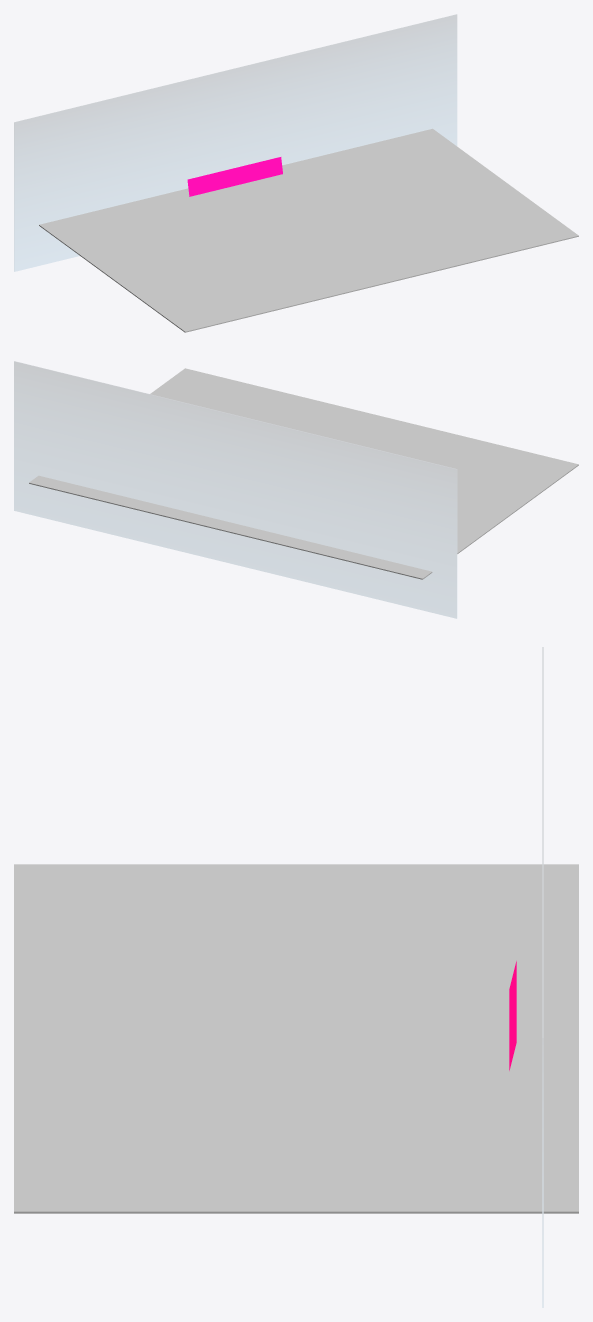
3 views of the same model, one above another, from view 1: azimuth 30°, elevation 25°; view 2: azimuth 150°, elevation 25°; view 3: azimuth 270°, elevation 25° (orthographic). The views are drawn at different scales.
Visible parts, largest first — view 1: Ground contact / transparent shadow receiver.031, Sky gradient / editable material.031, Flag cloth / full-bleed source fields.003; view 2: Sky gradient / editable material.031, Ground contact / transparent shadow receiver.031; view 3: Ground contact / transparent shadow receiver.031, Sky gradient / editable material.031.
Boxes of the visible parts, bbox=[...] form: Ground contact / transparent shadow receiver.031: bbox=[39, 128, 578, 332]; Sky gradient / editable material.031: bbox=[14, 14, 457, 271]; Flag cloth / full-bleed source fields.003: bbox=[187, 157, 282, 196]; Sky gradient / editable material.031: bbox=[14, 361, 457, 618]; Ground contact / transparent shadow receiver.031: bbox=[29, 368, 578, 579]; Ground contact / transparent shadow receiver.031: bbox=[14, 864, 578, 1213]; Sky gradient / editable material.031: bbox=[542, 647, 543, 1307].
Size of the model in its own units: 180 by 58 by 110.
